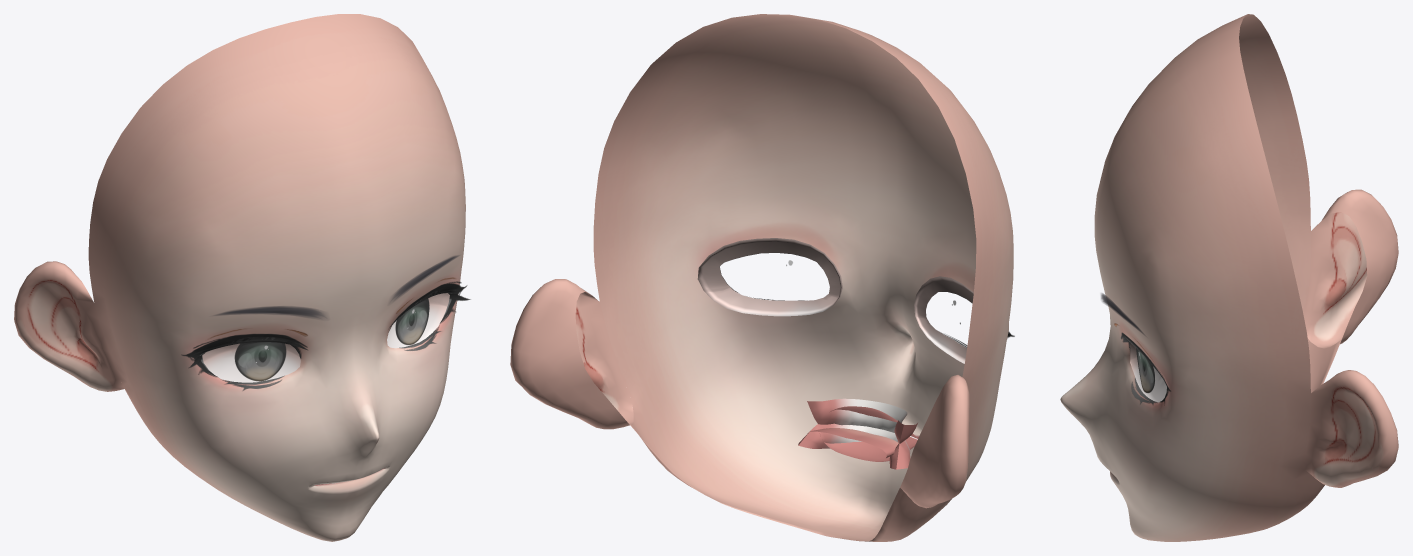
The picture shows the model from 3 angles, left to right: view 1: azimuth 30°, elevation 25°; view 2: azimuth 150°, elevation 25°; view 3: azimuth 270°, elevation 25°; orthographic projection. The views are drawn at different scales.
Parts seen in each view (by area): view 1: part; view 2: part; view 3: part.
Part boxes in pixels (x1,y1,x2,y2): part: [14, 14, 470, 541]; part: [510, 14, 1014, 541]; part: [1060, 14, 1398, 541].
Size of the model in its own units: 0.1957 by 0.2223 by 0.1369.
Materials: 8 (8 with a texture image).
